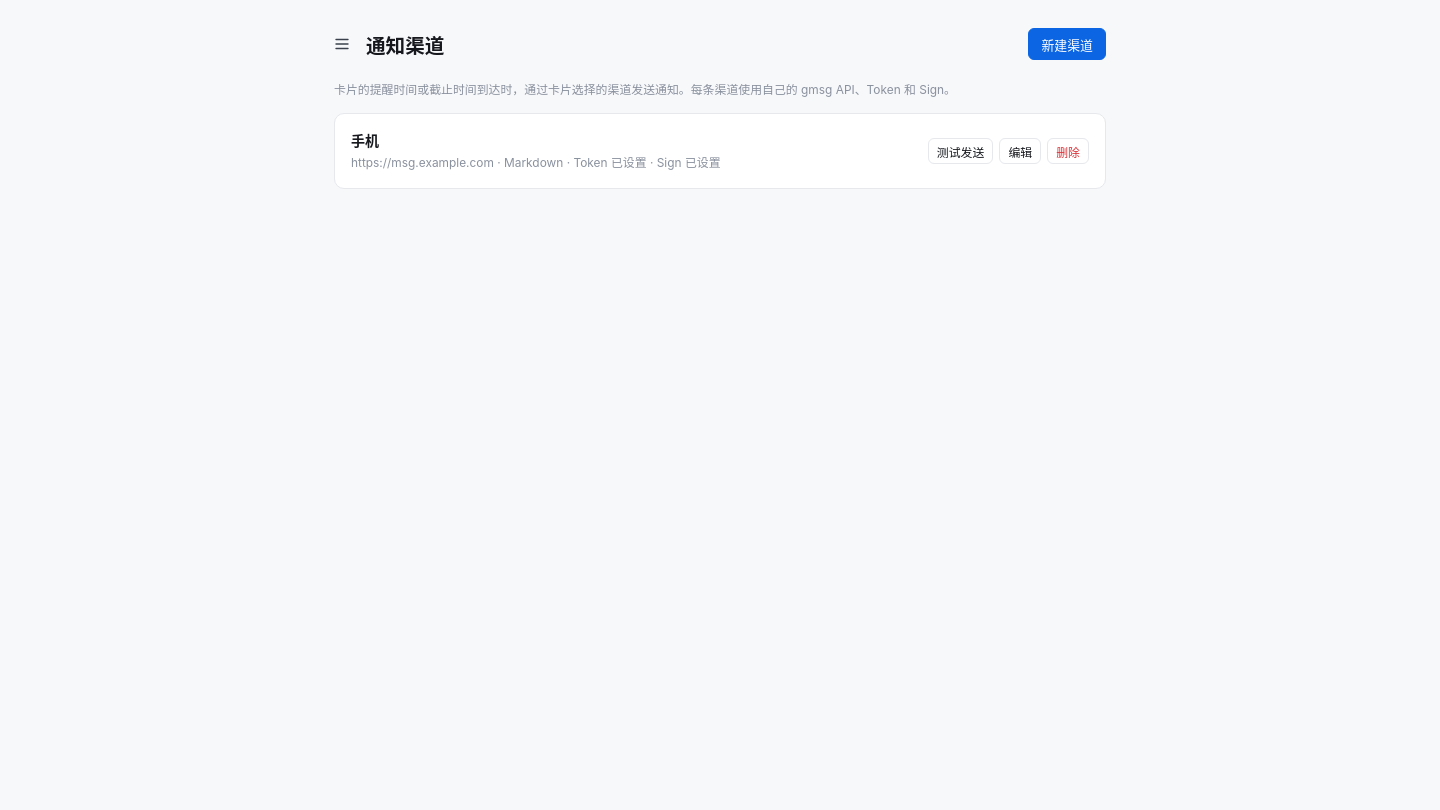
ChannelsPage › 删除渠道需要确认，确认后从列表中移除
What coordinates should you click on to do the following:
click the button "删除"
I would click on:
 (1068, 151)
Its box is [1047, 138, 1089, 164].
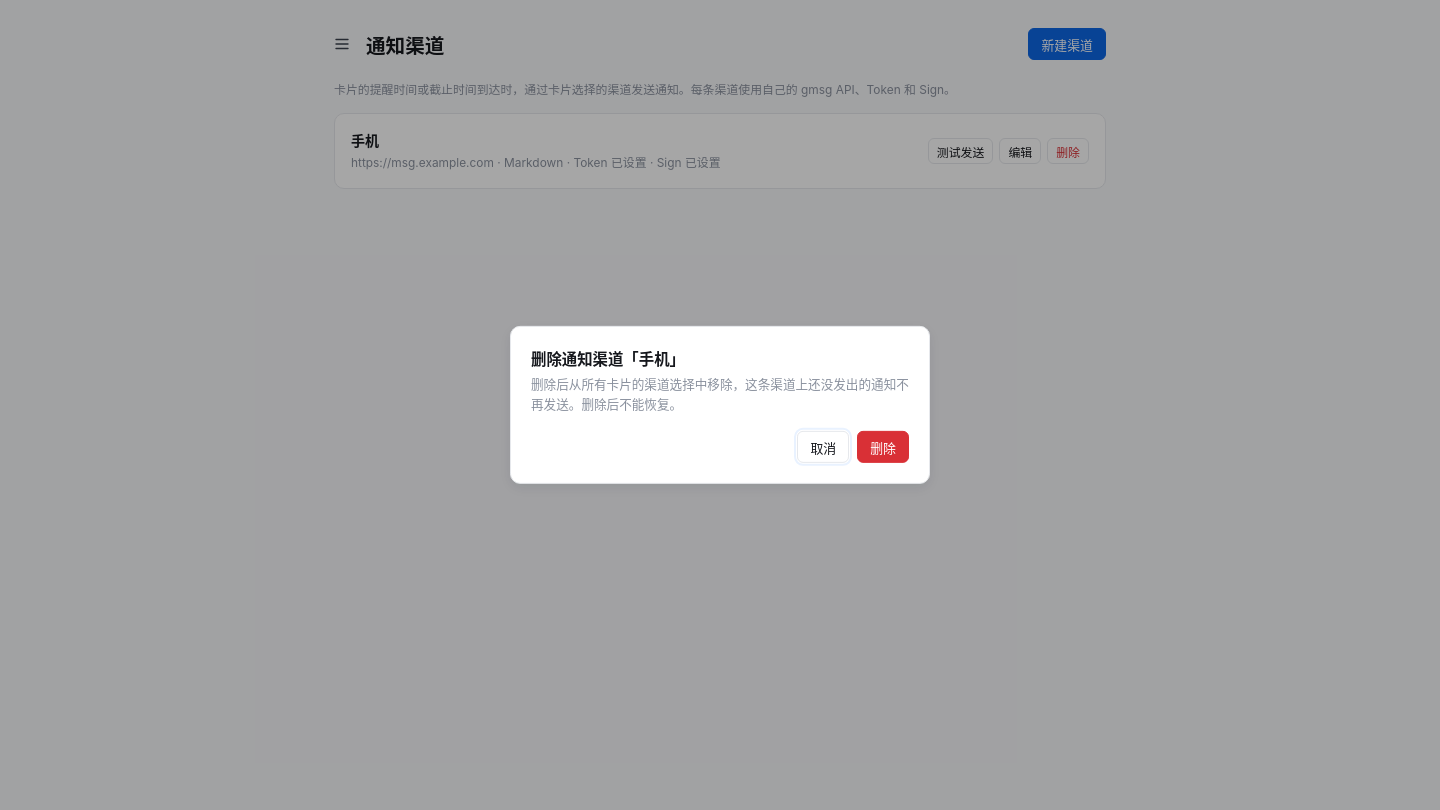
What coordinates should you click on to do the following:
click the button "删除"
I would click on:
 (883, 447)
Its box is [857, 431, 909, 463].
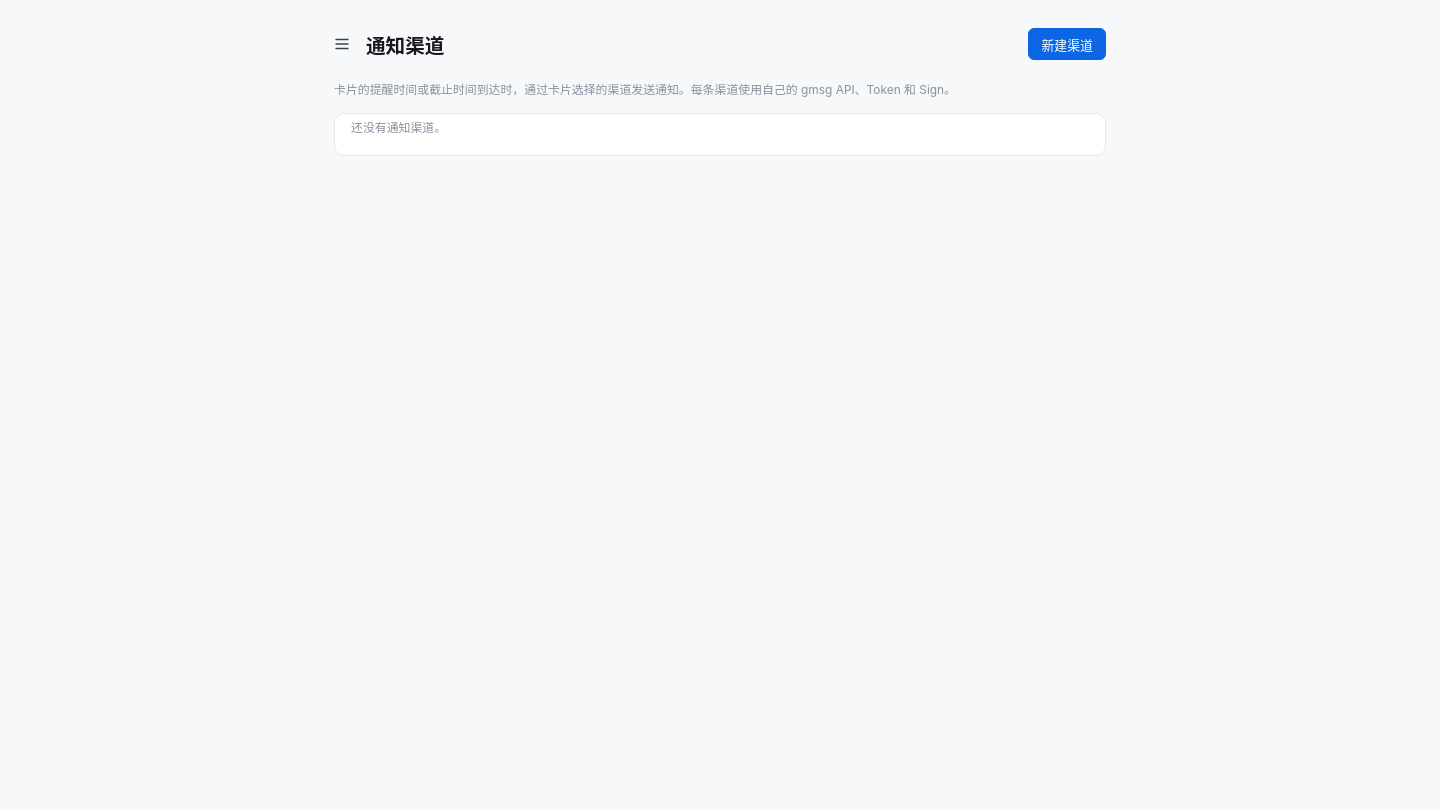
Expected: the text "手机" is gone
